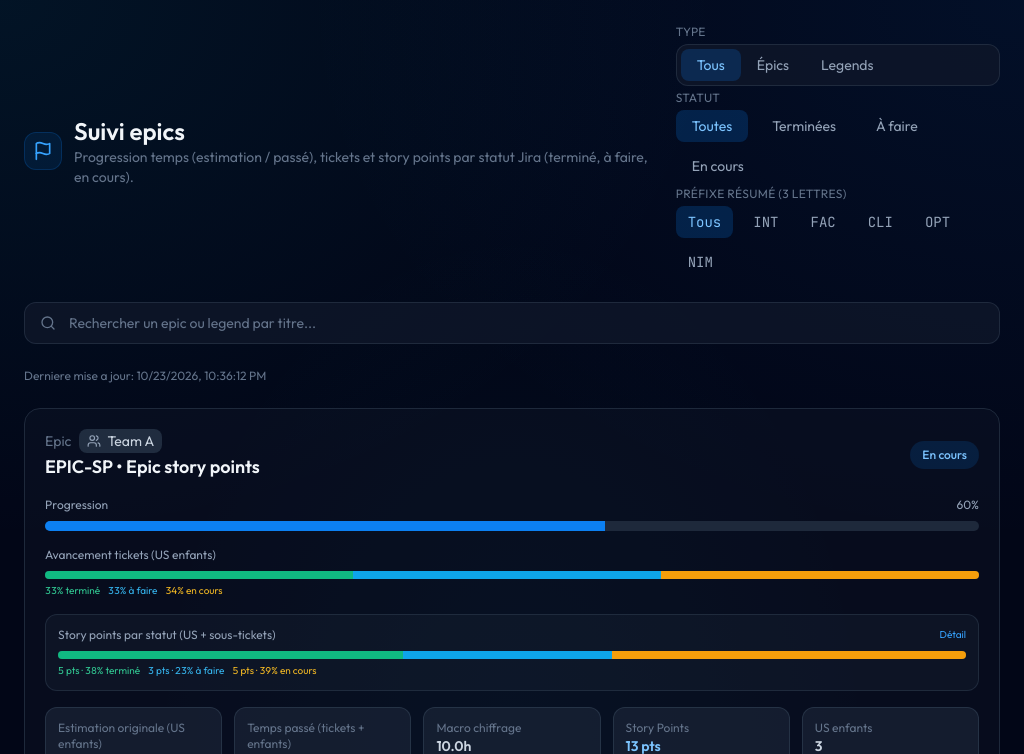
Scenario: EpicProgressPage › ouvre la modale de détail story points depuis la liste
This screenshot has width=1024, height=754.
Check: the text "EPIC-SP • Epic story points" is shown, box [45,453,260,481]
Click the button "Story points par statut (US + sous-tickets)".
click(512, 652)  # box [45,614,979,691]
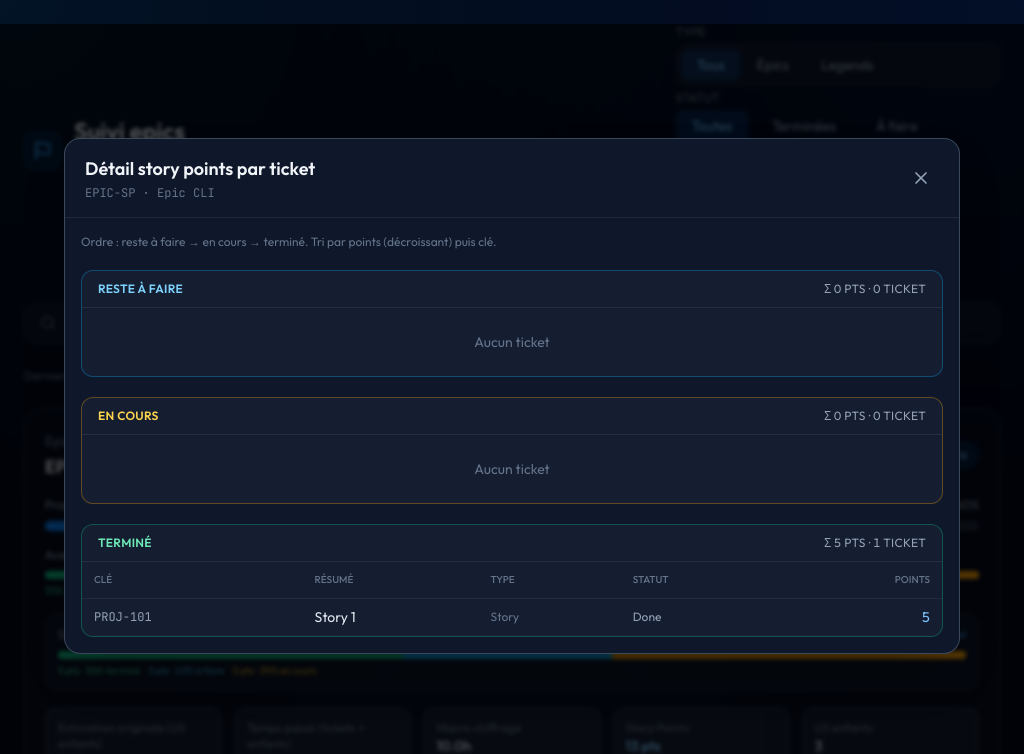
Check: the heading "Détail story points par ticket" is shown, box [85,155,315,183]
Check: the text "PROJ-101" is shown, box [82,598,303,636]
